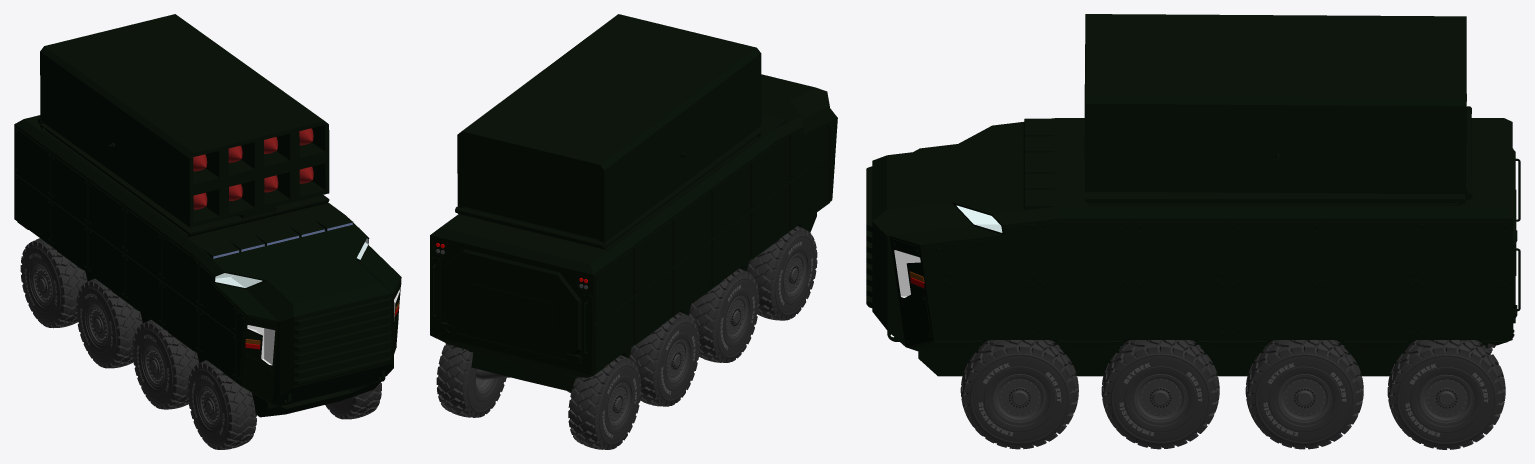
The model's file is Launcher.glb.
3 views of the same model, side by side, from view 1: azimuth 30°, elevation 25°; view 2: azimuth 150°, elevation 25°; view 3: azimuth 270°, elevation 25° (orthographic). The views are drawn at different scales.
Visible parts, largest first — view 1: Solid1 (×12); view 2: Solid1 (×12); view 3: Solid1 (×11).
Boxes of the visible parts, x1,y1,x2,y2 form: Solid1 (×12): (14,14,401,449); Solid1 (×12): (430,14,837,449); Solid1 (×11): (866,14,1520,449).
Size of the model in its own units: 3.06 by 5.08 by 8.59.
